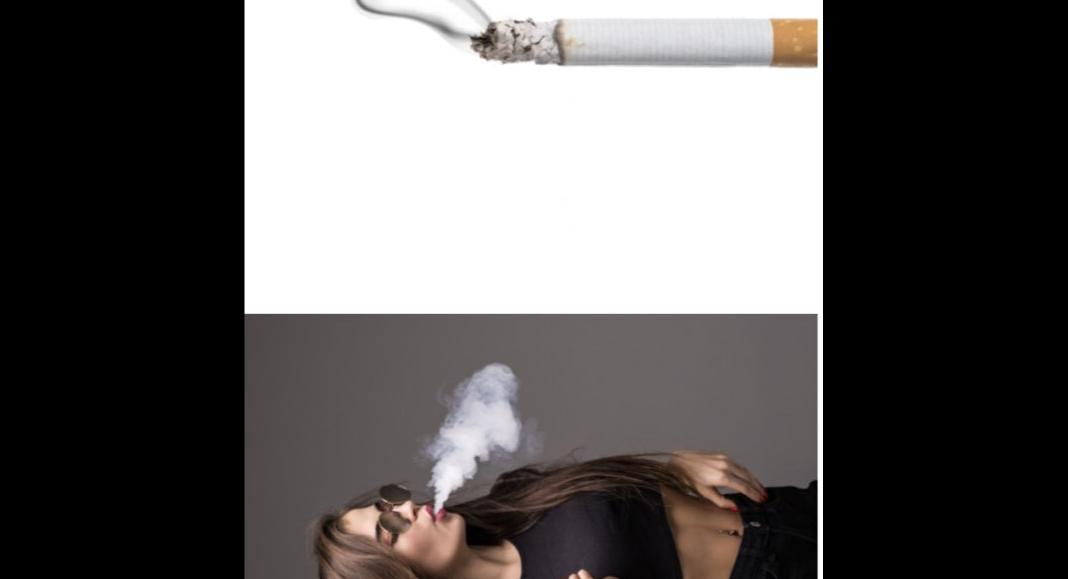controlled_fire: (301, 0, 635, 129), (350, 354, 529, 554)
